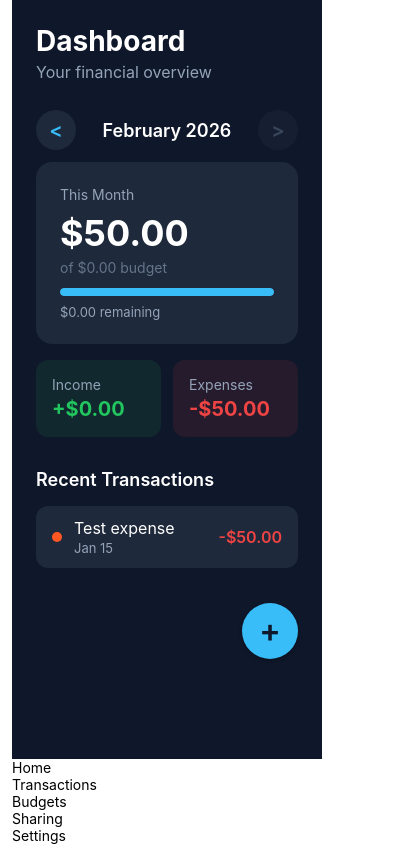
Test: MainTabNavigator › navigates to budgets tab
The width and height of the screenshot is (402, 844).
What coordinates should you click on to do the following:
click the text "Budgets"
I would click on:
 (39, 802)
Its box is [12,793,67,810].
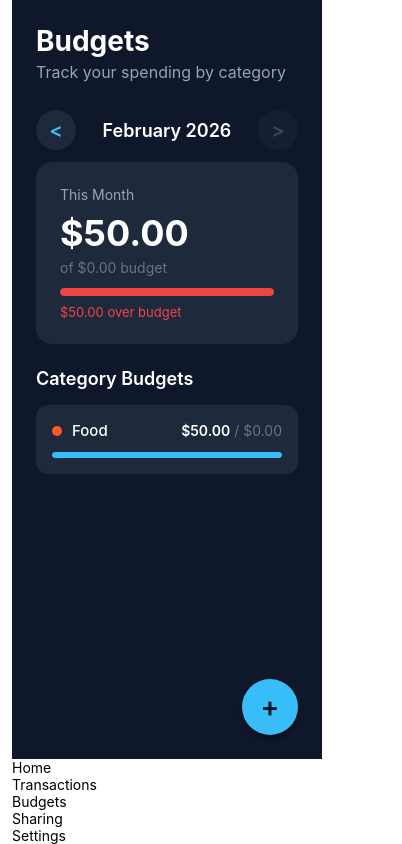
Now the text "Track your spending by category" is shown, box [36,62,298,82]
